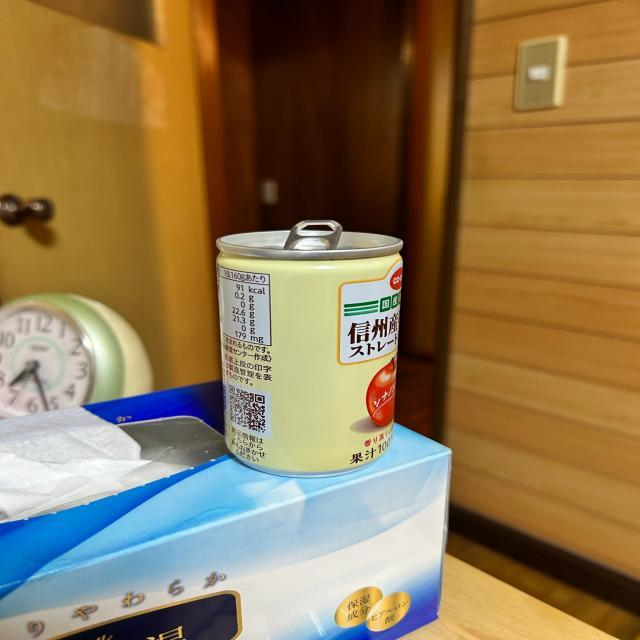kimloai: (218, 220, 402, 475)
